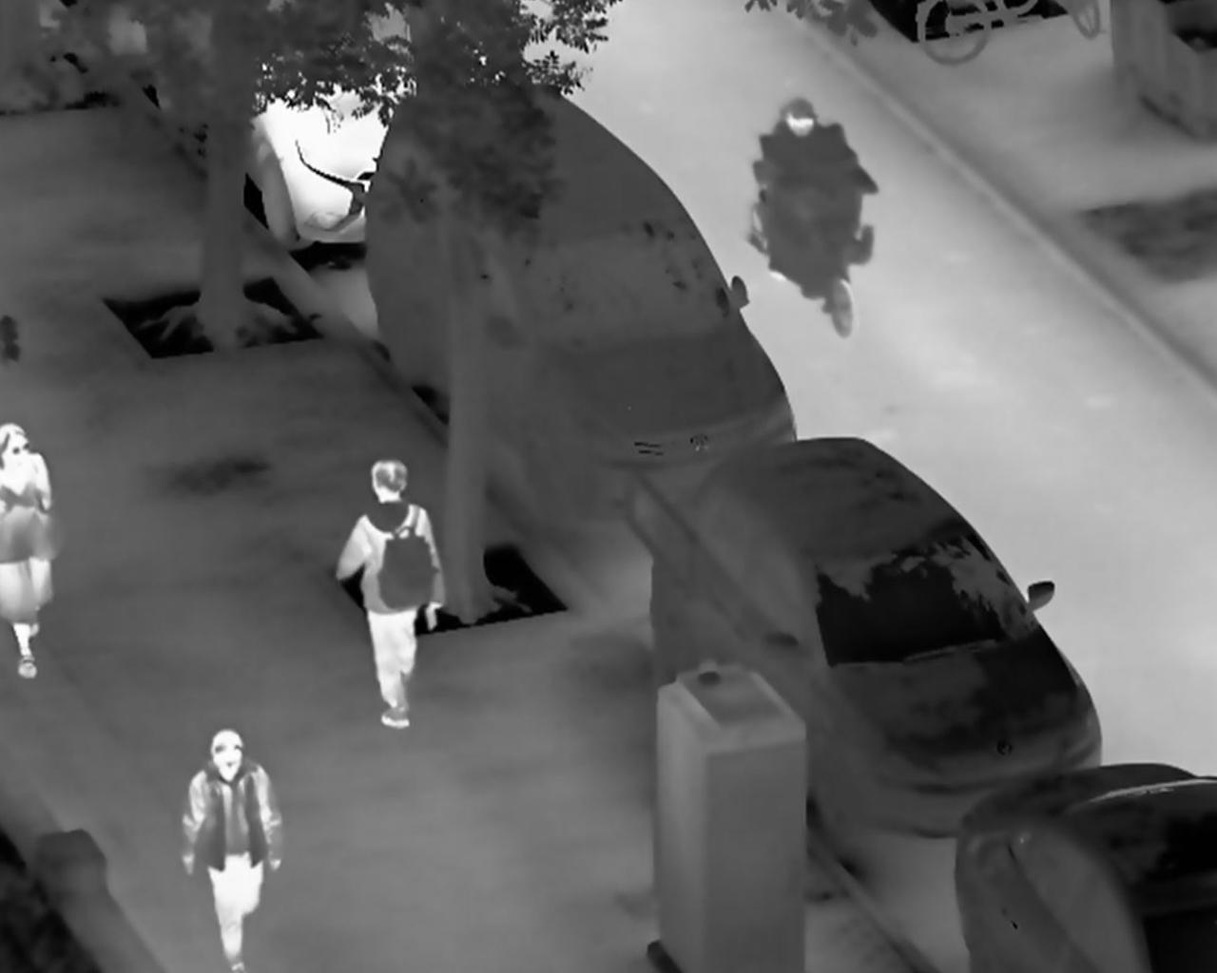person: (331, 454, 452, 732), (180, 727, 284, 973), (751, 93, 873, 247), (2, 420, 59, 682)
